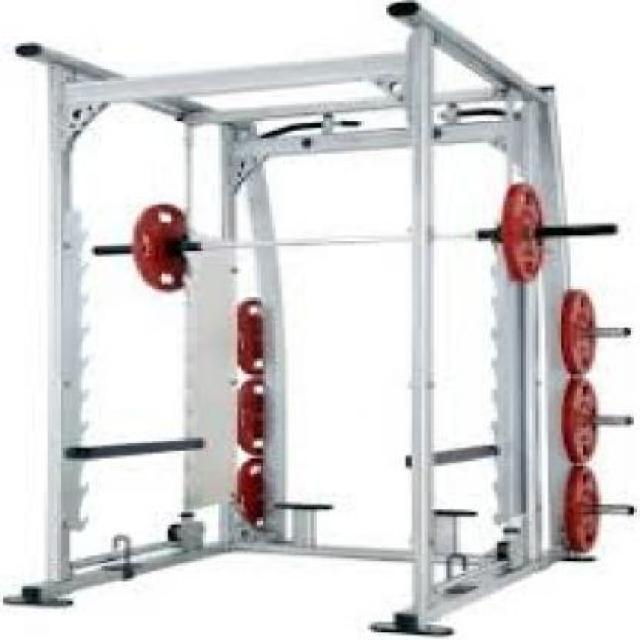smith machine: (8, 3, 624, 632)
